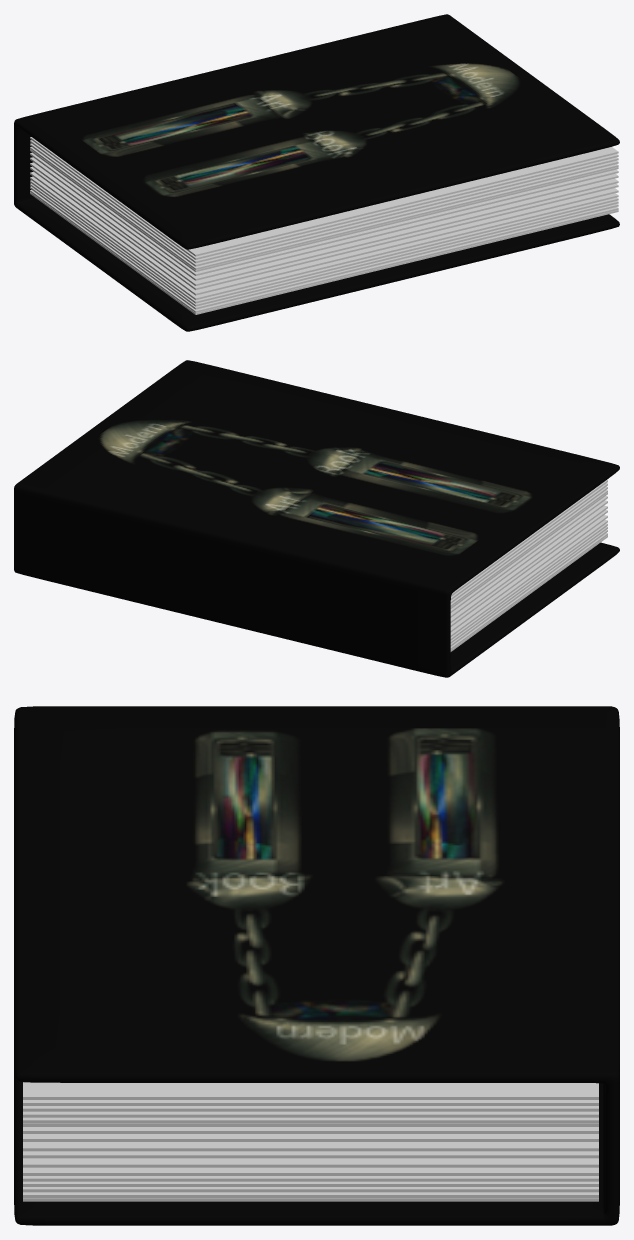
Rendered from Modernartstatuebook.fbx.
The picture shows the model from 3 angles, top to bottom: view 1: azimuth 30°, elevation 25°; view 2: azimuth 150°, elevation 25°; view 3: azimuth 270°, elevation 25°; orthographic projection. The views are drawn at different scales.
Visible parts, largest first — view 1: book, page, page7, page9, page6, page11, page8, page5, page15, page16, page3, page10 (+6 smaller); view 2: book, page7, page9, page6, page11, page8, page5, page15, page16, page10, page3, page2 (+3 smaller); view 3: book, page, page9, page7, page11, page8, page6, page16, page15, page5, page3, page14 (+6 smaller).
Boxes of the visible parts, x1,y1,x2,y2 form: book: [14, 14, 619, 331]; page: [184, 147, 618, 256]; page7: [30, 162, 618, 285]; page9: [30, 172, 618, 295]; page6: [30, 157, 618, 280]; page11: [30, 176, 618, 300]; page8: [30, 167, 618, 290]; page5: [30, 153, 618, 275]; page15: [30, 190, 618, 312]; page16: [30, 147, 618, 269]; page3: [30, 143, 618, 266]; page10: [30, 180, 618, 303]; book: [14, 360, 619, 677]; page7: [450, 505, 607, 622]; page9: [450, 515, 607, 632]; page6: [450, 500, 607, 617]; page11: [450, 520, 607, 636]; page8: [450, 510, 607, 626]; page5: [450, 496, 607, 612]; page15: [450, 533, 607, 649]; page16: [450, 490, 607, 606]; page10: [450, 523, 607, 640]; page3: [450, 486, 607, 603]; page2: [451, 483, 607, 599]; book: [14, 706, 619, 1225]; page: [23, 1082, 598, 1099]; page9: [23, 1158, 598, 1167]; page7: [23, 1142, 598, 1151]; page11: [23, 1167, 598, 1175]; page8: [23, 1151, 598, 1158]; page6: [23, 1134, 598, 1141]; page16: [23, 1117, 598, 1123]; page15: [23, 1192, 598, 1198]; page5: [23, 1127, 598, 1133]; page3: [23, 1111, 598, 1117]; page14: [23, 1181, 598, 1186].
Bounding box in the file's own units: 1.18 × 0.2299 × 0.8138.
